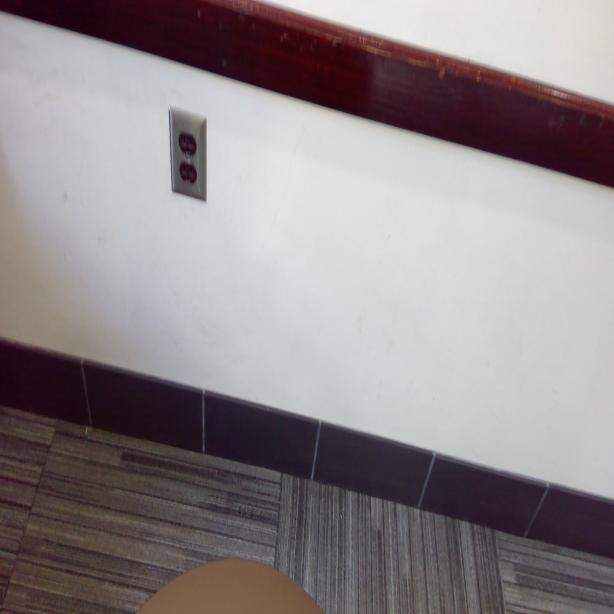typeb: (179, 128, 194, 154), (180, 163, 195, 187)
